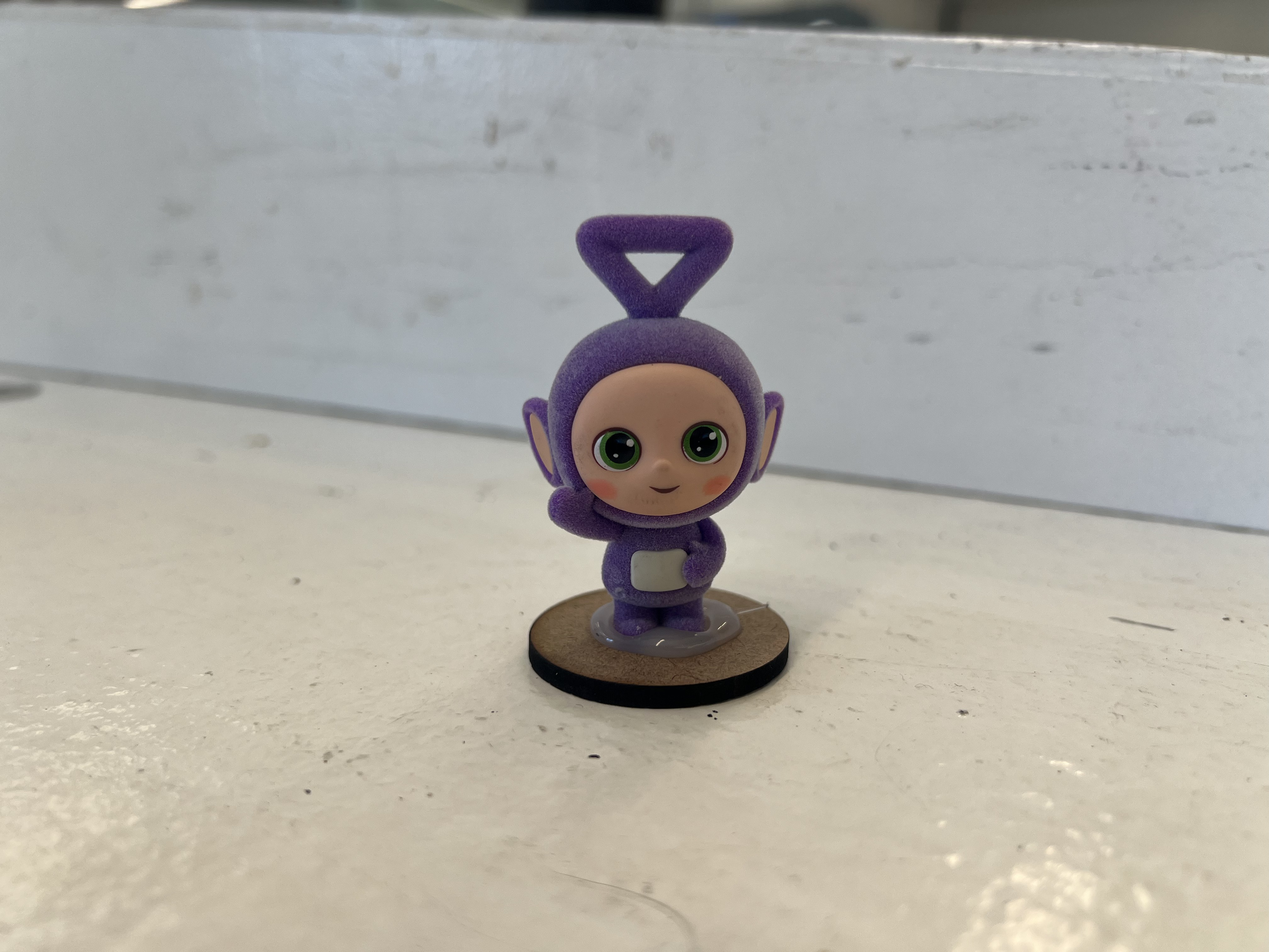teletubby: (522, 215, 785, 657)
